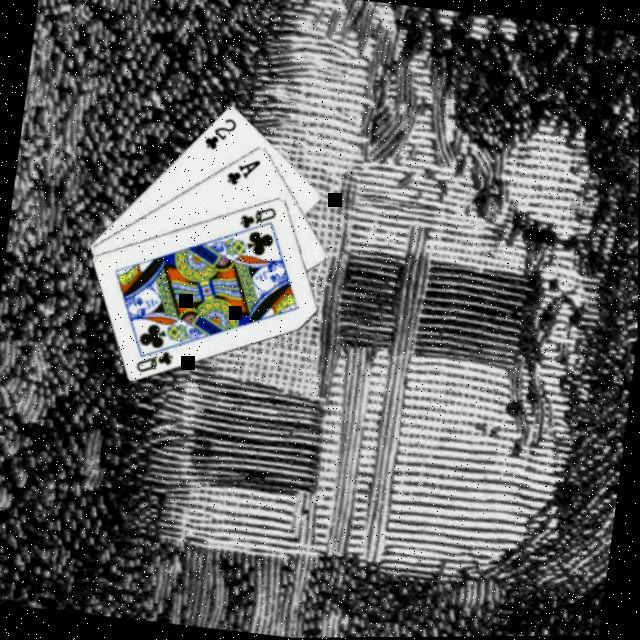2C: (201, 111, 241, 153)
AC: (223, 153, 265, 190)
QC: (133, 343, 177, 378), (237, 199, 280, 234)
